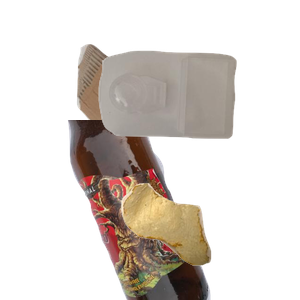cardboard: (74, 42, 225, 170)
glass: (65, 120, 300, 300)
plastic: (96, 48, 300, 179)
trash: (119, 181, 300, 300)
